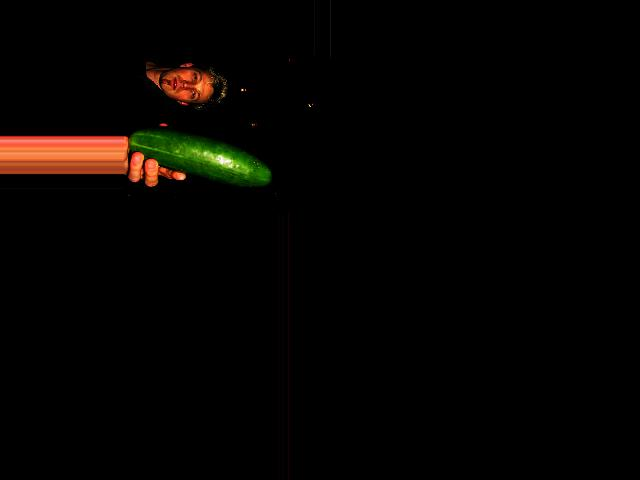cucumber: (129, 129, 271, 188)
